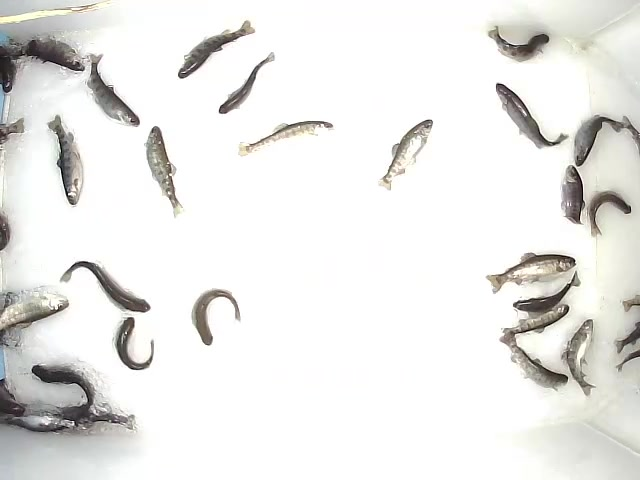fish: (493, 81, 570, 150), (176, 17, 259, 79), (57, 259, 152, 313), (499, 332, 572, 393), (376, 117, 435, 192), (214, 49, 278, 115), (484, 251, 578, 295), (44, 113, 86, 207), (144, 124, 185, 217), (237, 120, 337, 157), (510, 266, 582, 313), (188, 286, 242, 346), (29, 360, 96, 407), (571, 112, 623, 167), (561, 317, 596, 398), (482, 25, 552, 64), (112, 315, 157, 370), (584, 189, 633, 237), (499, 304, 574, 335), (559, 162, 586, 226), (1, 413, 76, 434)
